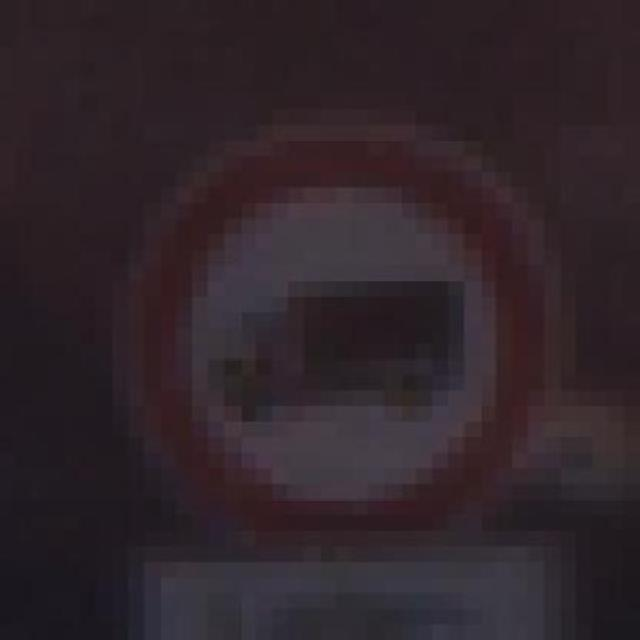Truck traffic is prohibited: (79, 109, 576, 594)
